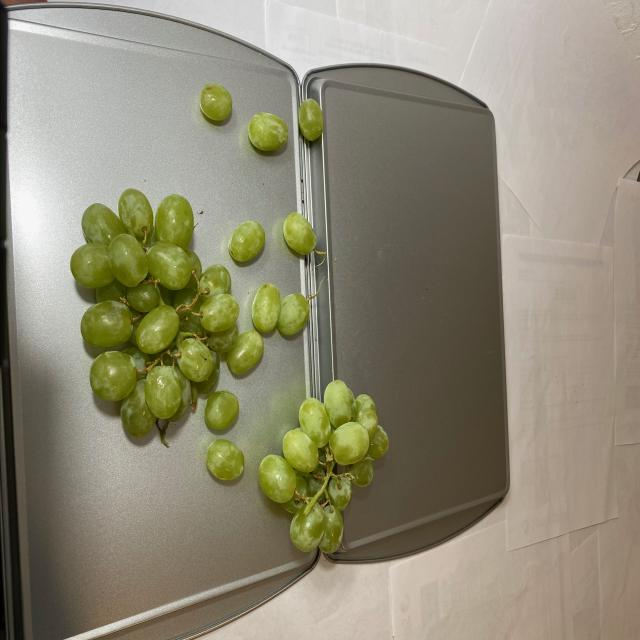grapes: (70, 82, 387, 551)
